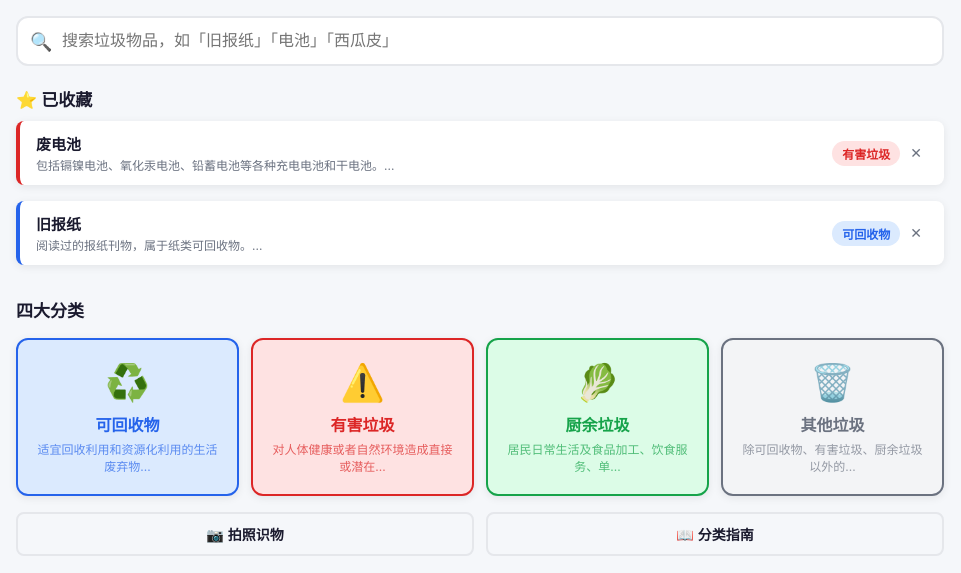
Test: 首页已收藏列表回看 › 点击 ✕ 按钮 -> 取消收藏并从列表移除，不触发跳转
Step 1. Click the button named "取消收藏" → (916, 153), box [904,141,928,165]
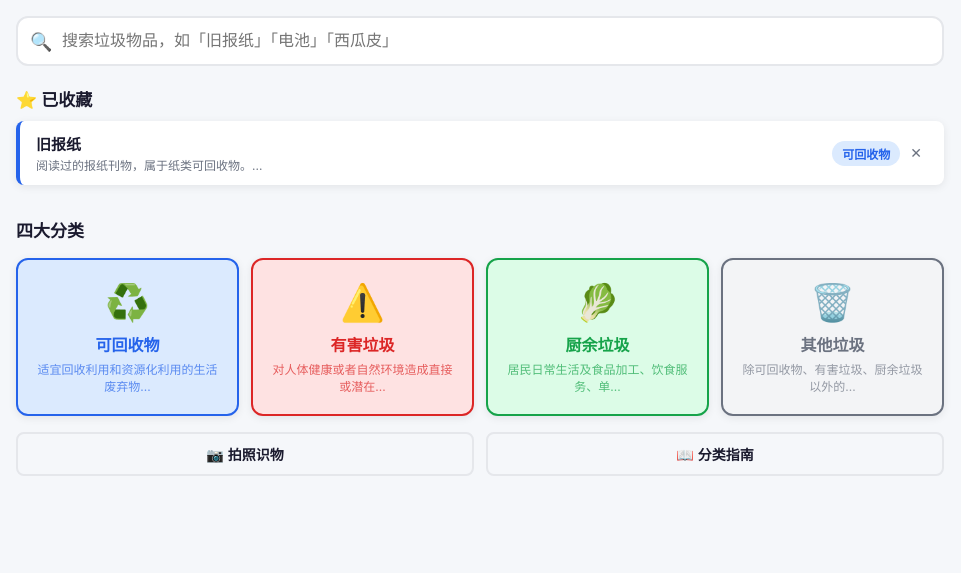
Check: the text "旧报纸" is shown, box [36,135,81,154]
Check: the text "废电池" is gone
